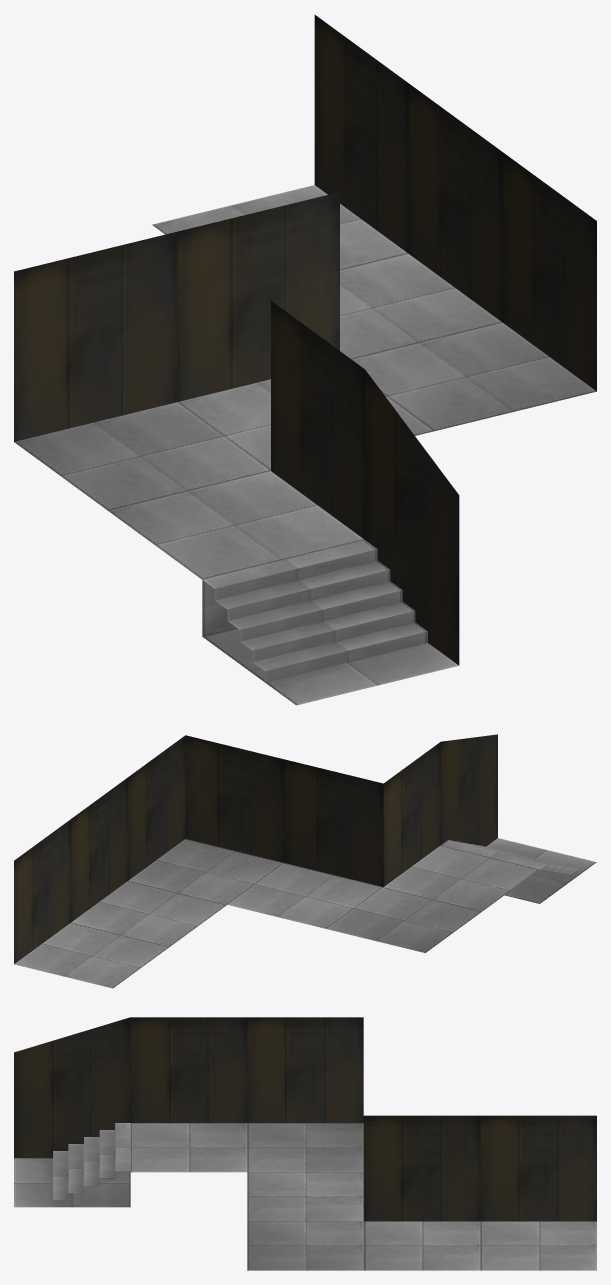
File: connector_r.glb
3 renders of one model, top to bottom at view 1: azimuth 30°, elevation 25°; view 2: azimuth 150°, elevation 25°; view 3: azimuth 270°, elevation 25°, orthographic. The views are drawn at different scales.
Visible parts, largest first — view 1: wall, floor, stair; view 2: wall, floor, stair; view 3: wall, floor, stair.
Part boxes in pixels (box(x1,y1,x2,y2)): wall: box(14, 15, 596, 665); floor: box(14, 185, 596, 705); stair: box(202, 540, 427, 682); wall: box(14, 734, 497, 963); floor: box(14, 838, 596, 988); stair: box(441, 840, 577, 874); wall: box(14, 1017, 596, 1221); floor: box(14, 1123, 596, 1270); stair: box(53, 1123, 130, 1200).
Size of the model in its own units: 45 by 20 by 75.
Materials: 4 (4 with a texture image).
